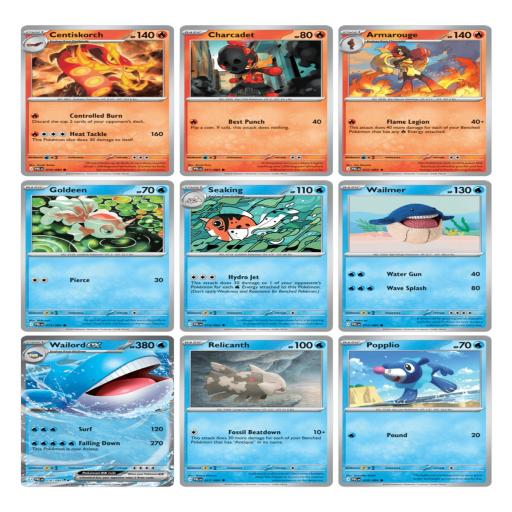card: (330, 331, 497, 491), (326, 23, 499, 177), (173, 20, 342, 177), (330, 179, 498, 331), (11, 179, 179, 331), (19, 331, 179, 489), (173, 334, 336, 488), (13, 27, 178, 179), (173, 182, 336, 329)
